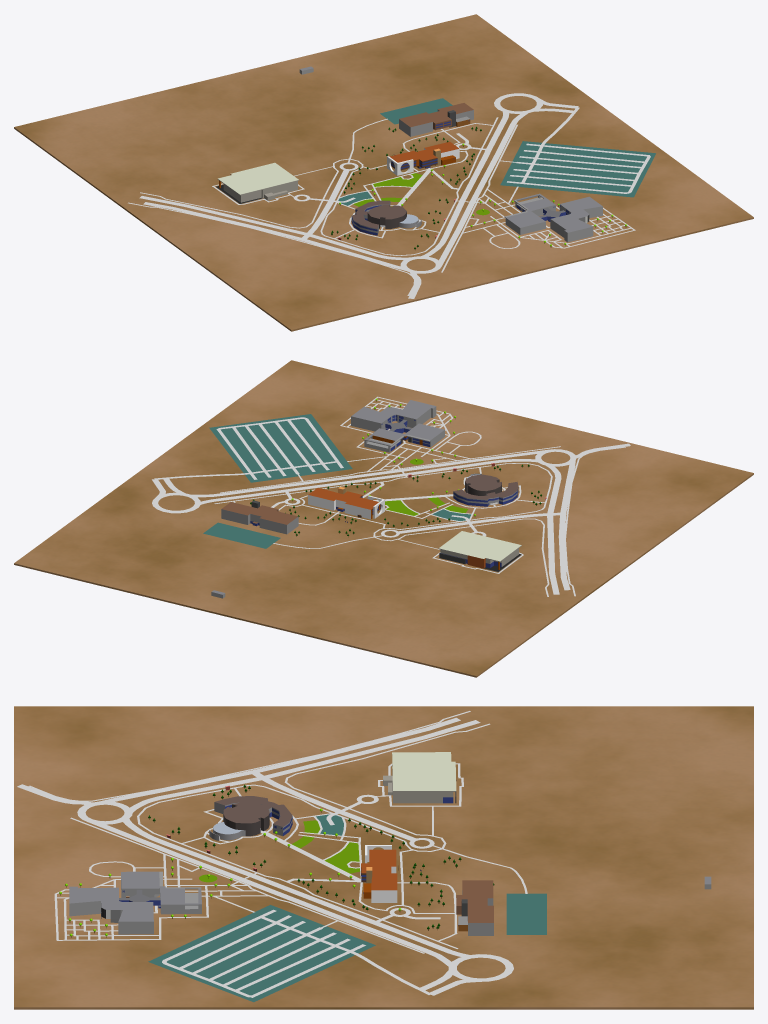
The picture shows the model from 3 angles, top to bottom: view 1: azimuth 30°, elevation 25°; view 2: azimuth 150°, elevation 25°; view 3: azimuth 270°, elevation 25°; orthographic projection. The views are drawn at different scales.
Parts seen in each view (by area): view 1: Terrain, estacionamientoD, Gimanasio multifincional UACJ CU.002, Edificio B, Edificio C, Edificio A, Avenida Del Desierto, Avenida Del Desierto.001, Av Del Desierto.001, Av Del Desierto, Edificio D3, estacionamientoB.001 (+4 smaller); view 2: Terrain, estacionamientoD, Gimanasio multifincional UACJ CU.002, Edificio B, Edificio C, Edificio A, Avenida Del Desierto, Avenida Del Desierto.001, estacionamientoB.001, Av Del Desierto.001, Av Del Desierto, Edificio D3 (+4 smaller); view 3: Terrain, estacionamientoD, Gimanasio multifincional UACJ CU.002, Edificio A, Avenida Del Desierto, Edificio B, Edificio C, Avenida Del Desierto.001, estacionamientoB.001, Av Del Desierto.001, Av Del Desierto, Edificio D4 (+12 smaller).
Boxes of the visible parts, bbox=[...] form: Terrain: bbox=[14, 14, 753, 331]; estacionamientoD: bbox=[500, 141, 655, 197]; Gimanasio multifincional UACJ CU.002: bbox=[216, 162, 299, 203]; Edificio B: bbox=[399, 103, 473, 136]; Edificio C: bbox=[387, 141, 459, 175]; Edificio A: bbox=[351, 200, 406, 235]; Avenida Del Desierto: bbox=[436, 111, 528, 265]; Avenida Del Desierto.001: bbox=[420, 111, 509, 258]; Av Del Desierto.001: bbox=[139, 196, 411, 260]; Av Del Desierto: bbox=[143, 202, 408, 270]; Edificio D3: bbox=[550, 213, 593, 242]; estacionamientoB.001: bbox=[380, 98, 452, 124]; Terrain: bbox=[14, 360, 753, 677]; estacionamientoD: bbox=[209, 414, 352, 482]; Gimanasio multifincional UACJ CU.002: bbox=[438, 531, 521, 571]; Edificio B: bbox=[221, 500, 298, 534]; Edificio C: bbox=[308, 486, 384, 519]; Edificio A: bbox=[453, 474, 518, 506]; Avenida Del Desierto: bbox=[190, 450, 548, 497]; Avenida Del Desierto.001: bbox=[198, 459, 540, 504]; estacionamientoB.001: bbox=[203, 522, 280, 548]; Av Del Desierto.001: bbox=[545, 464, 561, 594]; Av Del Desierto: bbox=[558, 460, 575, 590]; Edificio D3: bbox=[389, 400, 436, 427]; Terrain: bbox=[14, 706, 753, 1009]; estacionamientoD: bbox=[148, 905, 375, 1002]; Gimanasio multifincional UACJ CU.002: bbox=[383, 752, 456, 803]; Edificio A: bbox=[214, 796, 292, 836]; Avenida Del Desierto: bbox=[90, 821, 455, 966]; Edificio B: bbox=[456, 880, 493, 935]; Edificio C: bbox=[361, 845, 398, 902]; Avenida Del Desierto.001: bbox=[121, 818, 468, 956]; estacionamientoB.001: bbox=[506, 893, 546, 934]; Av Del Desierto.001: bbox=[125, 720, 480, 812]; Av Del Desierto: bbox=[99, 717, 460, 804]; Edificio D4: bbox=[104, 901, 153, 934].
Size of the model in its own units: 605 by 20.07 by 629.
Materials: 46 (1 with a texture image).
